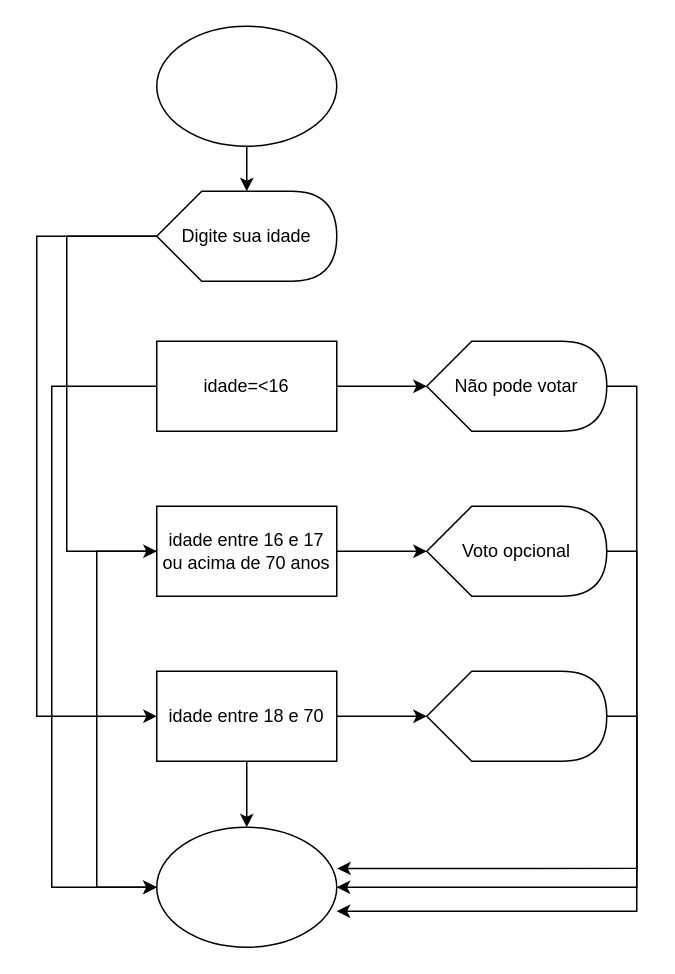
This 675x974 diagram has some shape labels left out. The shapes that lost their labels are listed below. From the top down, each one's centre as x and y in pixels, then its label:
At [246,85]: "Inicio".
At [516,715]: "Voto obrigatório".
At [246,886]: "Fim".
